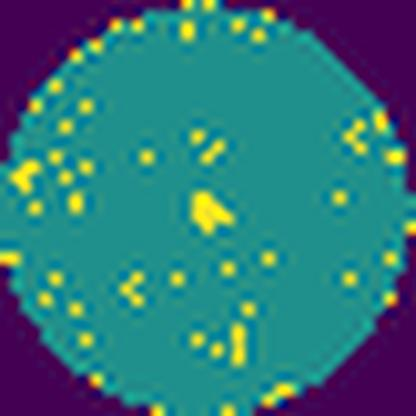Center: (192, 189, 236, 237)
